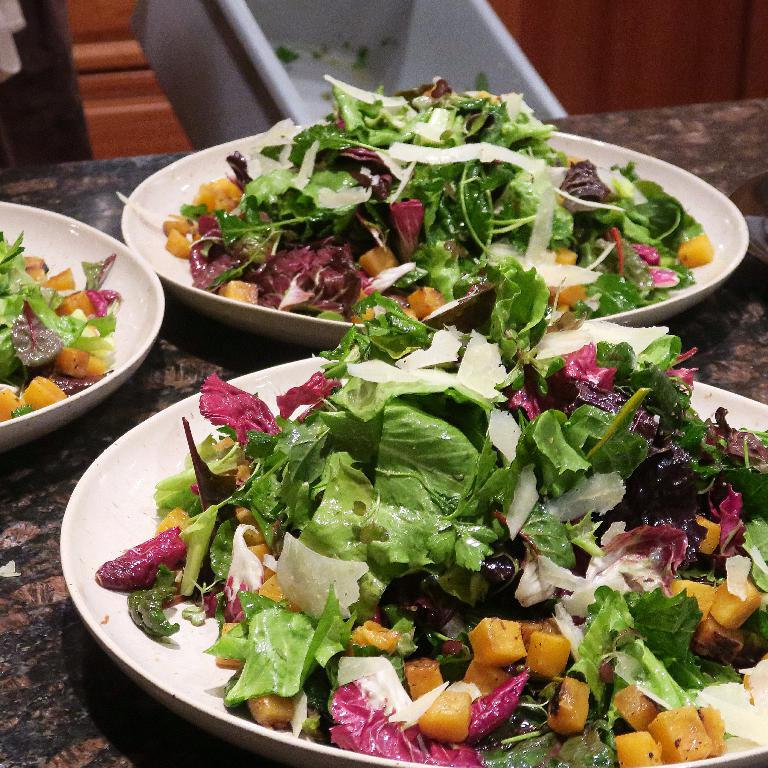salad: (92, 258, 768, 768), (158, 76, 719, 348), (0, 213, 129, 428)
